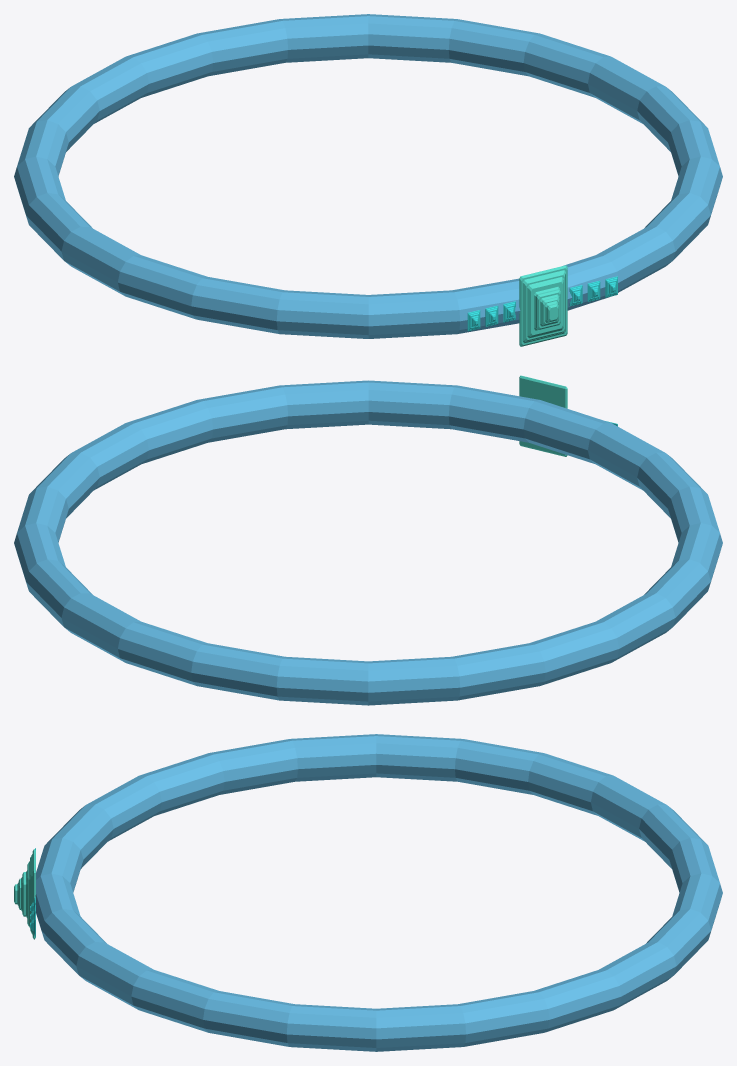
Rendered from square gems.fbx.
The picture shows the model from 3 angles, top to bottom: view 1: azimuth 30°, elevation 25°; view 2: azimuth 150°, elevation 25°; view 3: azimuth 270°, elevation 25°; orthographic projection. The views are drawn at different scales.
Parts seen in each view (by area): view 1: square gems; view 2: square gems; view 3: square gems.
Part boxes in pixels (x1=…): square gems: x1=14, y1=14, x2=722, y2=346; square gems: x1=14, y1=375, x2=722, y2=705; square gems: x1=14, y1=734, x2=722, y2=1051.
Bounding box in the file's own units: 131 × 14 × 128.
